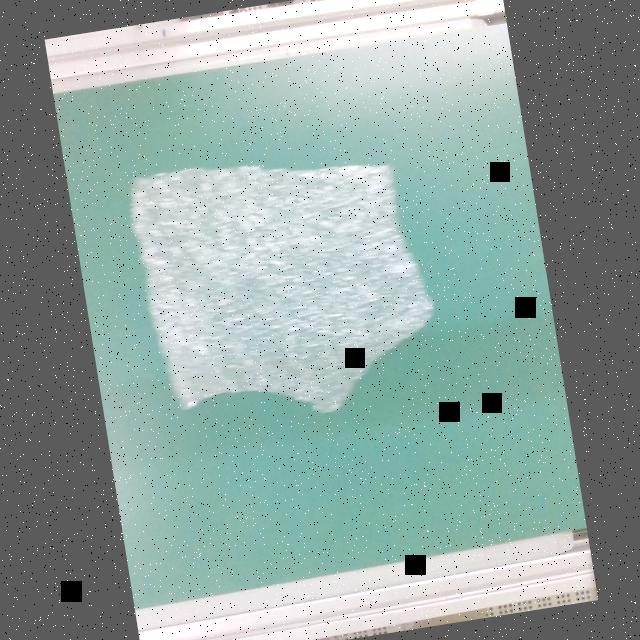scrap_plastic: (108, 121, 447, 441)
